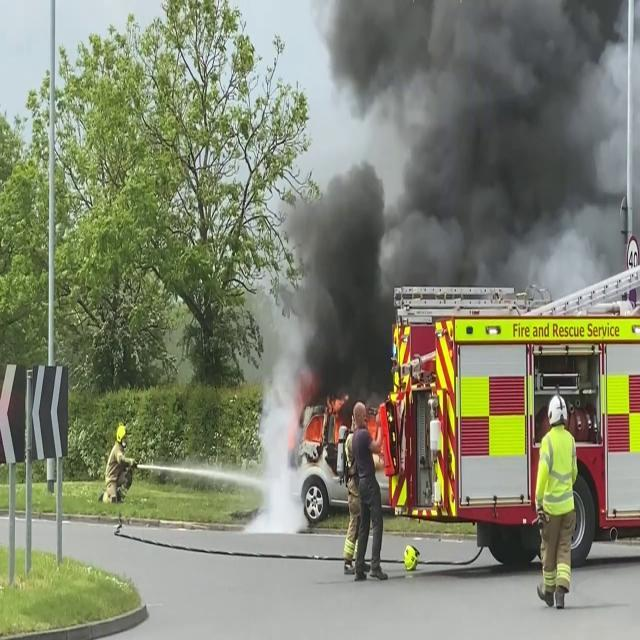Smoke: (310, 1, 640, 309), (254, 163, 396, 401)
